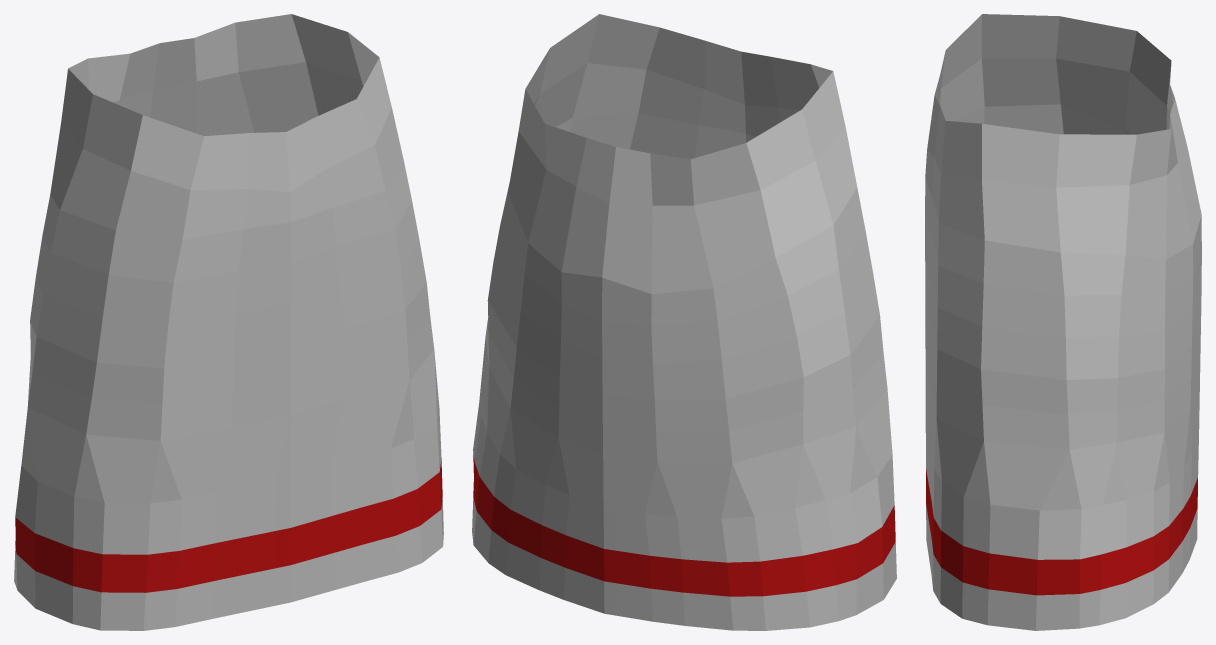
The model's file is Cloth.FBX.
3 renders of one model, left to right at view 1: azimuth 30°, elevation 25°; view 2: azimuth 150°, elevation 25°; view 3: azimuth 270°, elevation 25°, orthographic. The views are drawn at different scales.
Parts seen in each view (by area): view 1: ClothLegs; view 2: ClothLegs; view 3: ClothLegs.
Boxes of the visible parts, x1=… form: ClothLegs: x1=14, y1=14, x2=443, y2=630; ClothLegs: x1=472, y1=14, x2=896, y2=630; ClothLegs: x1=925, y1=14, x2=1201, y2=630.
Bounding box in the file's own units: 393 × 470 × 250.
